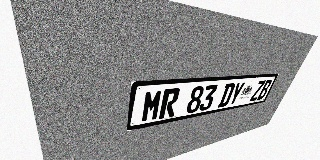3: (198, 84, 218, 111)
8: (185, 85, 206, 114)
B: (256, 79, 273, 100)
D: (217, 83, 236, 108)
M: (140, 89, 164, 123)
R: (158, 88, 181, 119)
Y: (227, 82, 246, 106)
Z: (249, 80, 266, 101)
